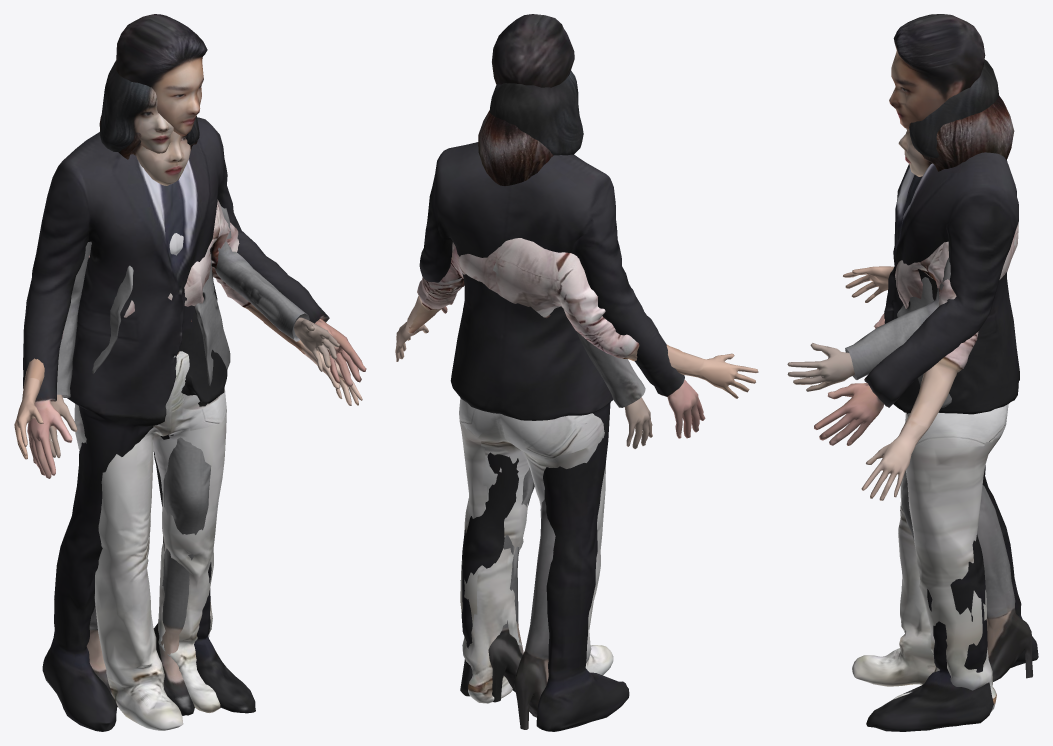
File: visitors.glb
3 views of the same model, side by side, from view 1: azimuth 30°, elevation 25°; view 2: azimuth 150°, elevation 25°; view 3: azimuth 270°, elevation 25° (orthographic).
Parts seen in each view (by area): view 1: Male_02, Female_01, Female_02; view 2: Male_02, Female_01, Female_02; view 3: Male_02, Female_01, Female_02.
Boxes of the visible parts, x1,y1,x2,y2 form: Male_02: [23, 14, 366, 731]; Female_01: [14, 115, 362, 730]; Female_02: [49, 60, 339, 715]; Male_02: [419, 14, 705, 731]; Female_01: [395, 110, 758, 703]; Female_02: [488, 70, 652, 729]; Male_02: [814, 14, 1038, 731]; Female_01: [843, 95, 1018, 711]; Female_02: [787, 59, 1032, 693].
Bounding box in the file's own units: 0.9419 × 1.78 × 0.589.
3 materials, 3 textured.
